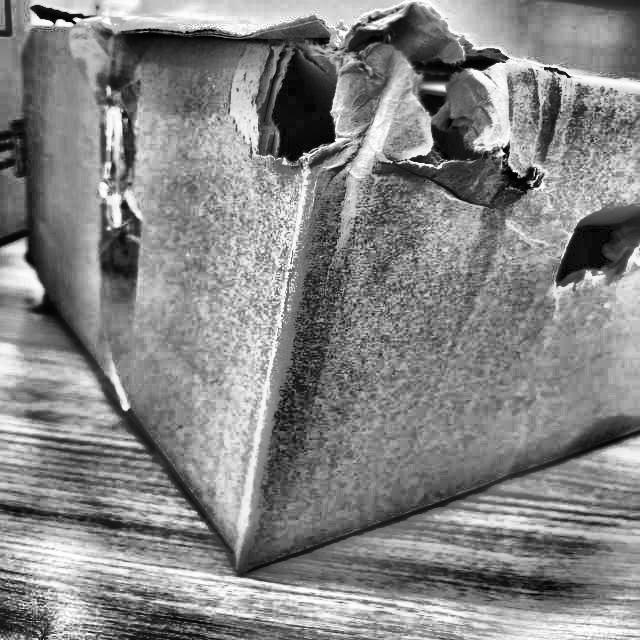box: (0, 0, 640, 564)
hole: (358, 34, 516, 172), (240, 26, 348, 175), (557, 206, 639, 290)
